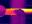Hotspot: (22, 9, 31, 13)
